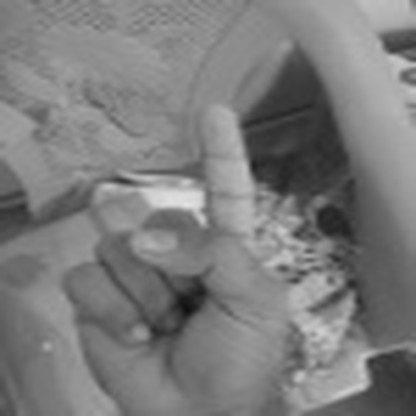d: (51, 98, 283, 416)
